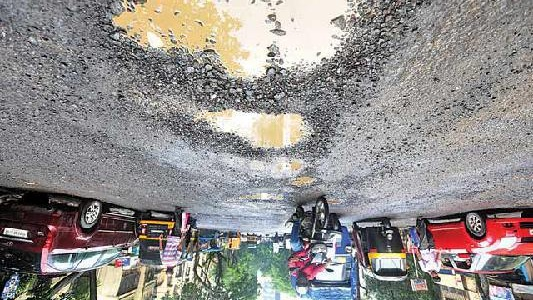pothole: (87, 2, 406, 99), (181, 111, 332, 159), (269, 159, 308, 179), (287, 173, 321, 192), (243, 189, 286, 204)
